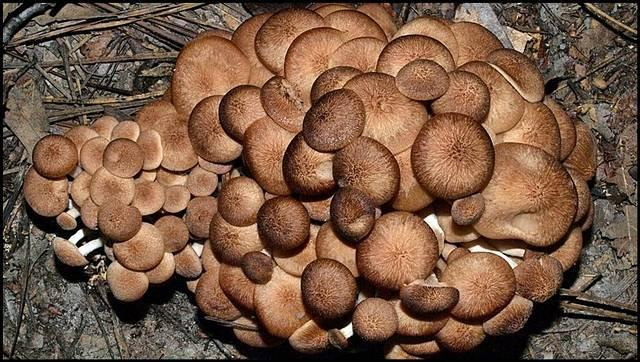Edible Mushroom: (23, 2, 598, 358)
